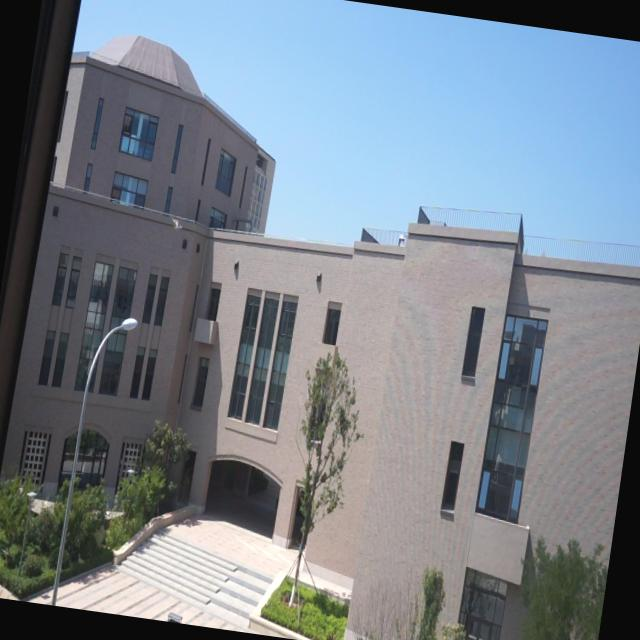drone: (170, 211, 186, 235)
